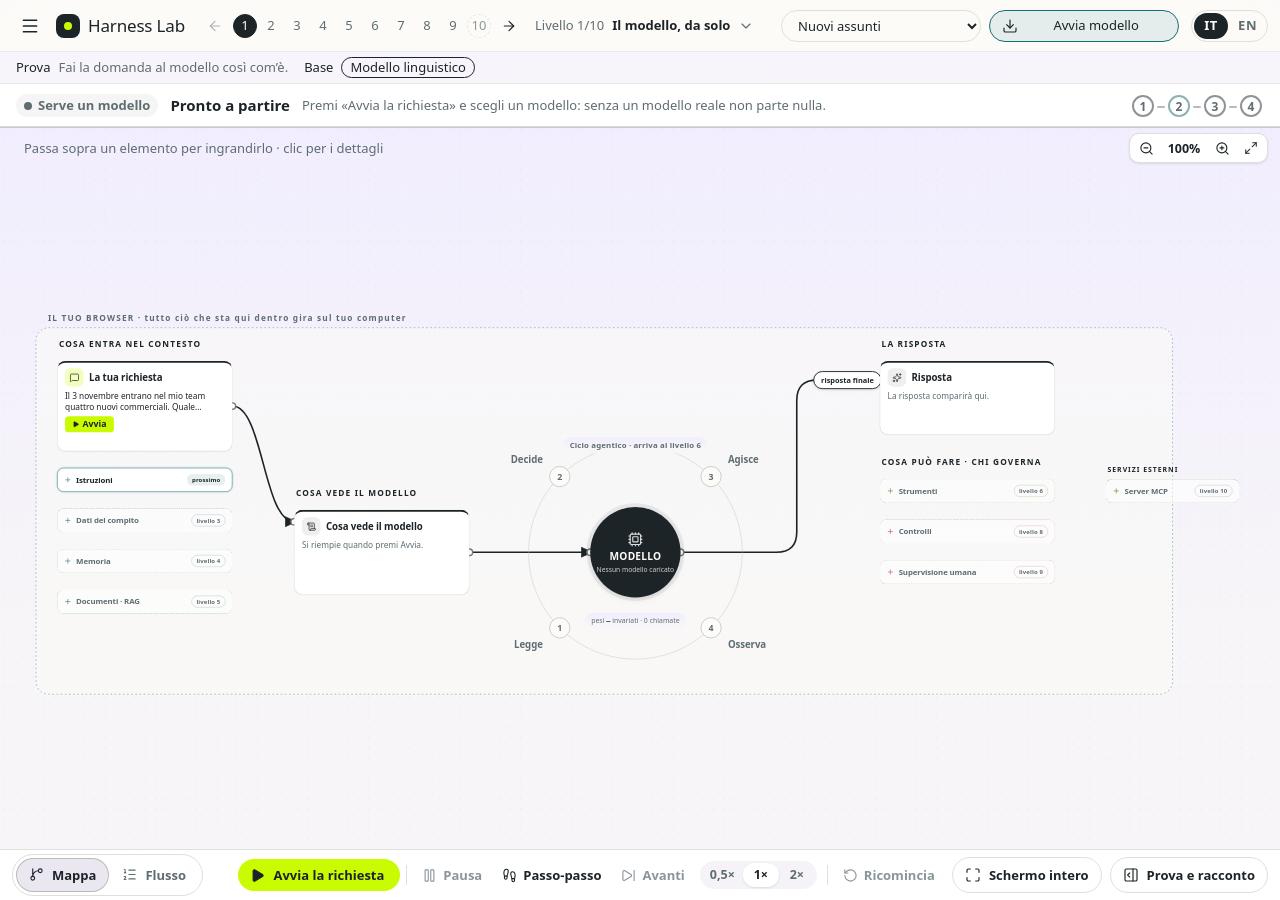
Scenario: laboratory workspace › starts with the map on the whole width and opens the run panel on request
Click the button "Prova e racconto": (1189, 875) top-left (1110, 857), bottom-right (1268, 893)
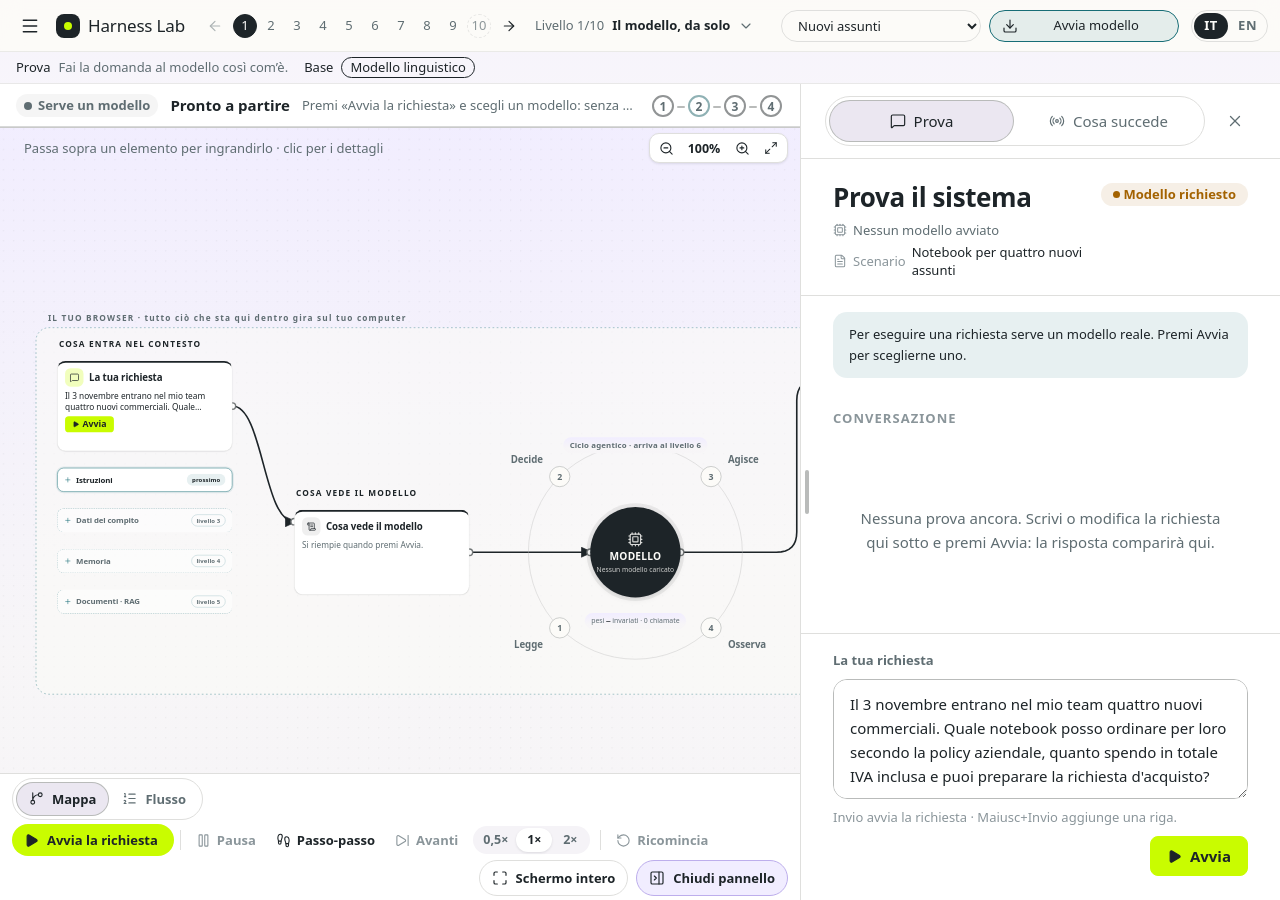
Now the button "Chiudi pannello" is expanded, box top-left (636, 860), bottom-right (788, 896)
Now the text box labelled "La tua richiesta" is shown, box top-left (833, 679), bottom-right (1248, 799)
